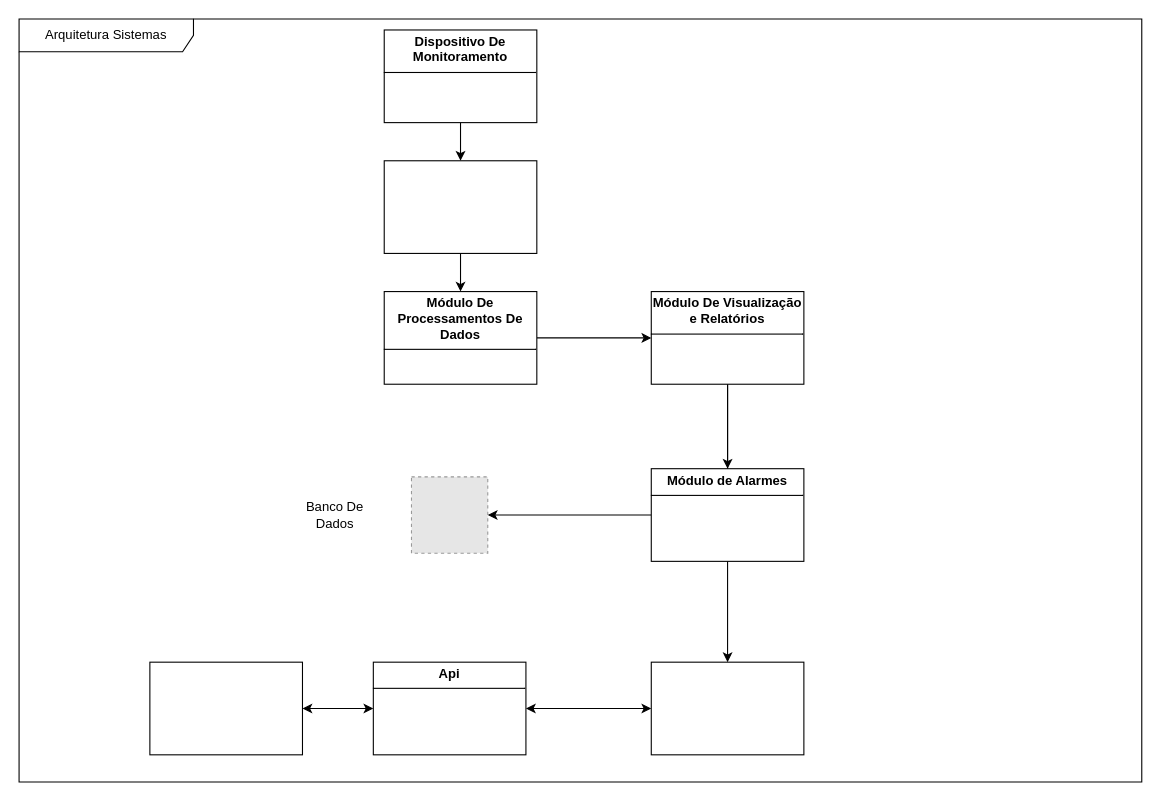
Image size: 1161x801. Some labels were removed from this diagram. Grey dashed boxes stand in for pictures. The shapes that lost their labels are listed below. From the top down, each one's centre as x and y in pixels, then its label:
At point 460,206: "Módulo De Coleta De Dados".
At point 225,708: "Modulo De Integração".
At point 727,708: "Módulo de Segurança".
